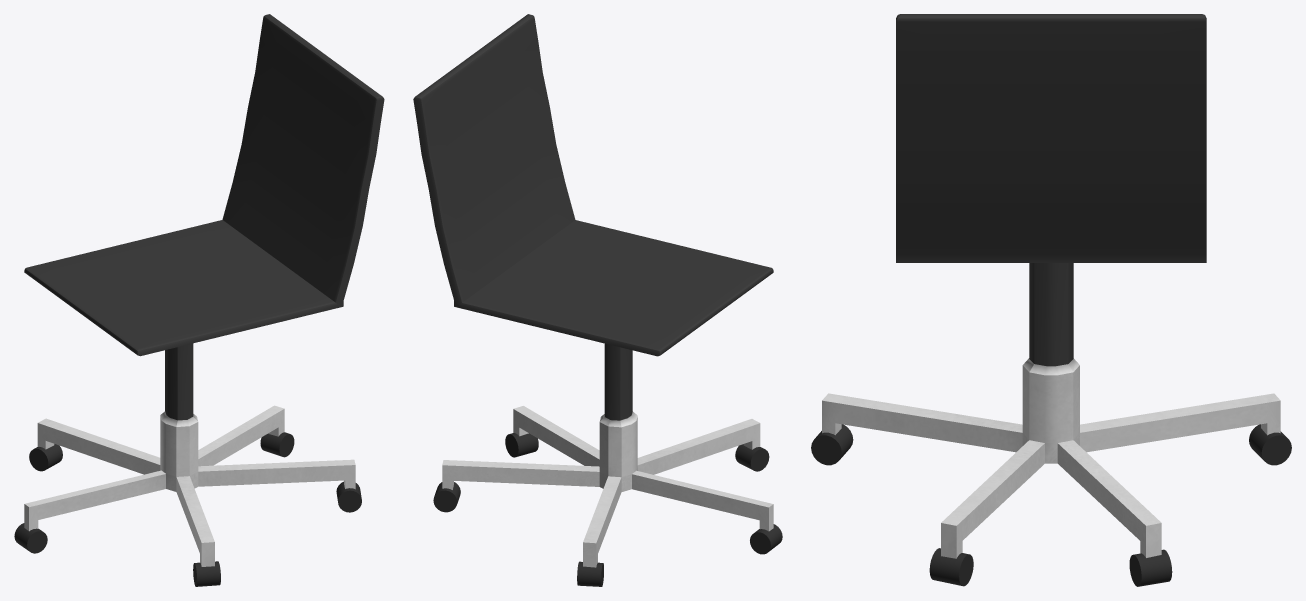
The model's file is Desk_Chair.fbx.
3 views of the same model, side by side, from view 1: azimuth 30°, elevation 25°; view 2: azimuth 150°, elevation 25°; view 3: azimuth 270°, elevation 25° (orthographic). The views are drawn at different scales.
Parts seen in each view (by area): view 1: polySurface392; view 2: polySurface392; view 3: polySurface392.
Boxes of the visible parts, x1,y1,x2,y2 form: polySurface392: (14, 14, 384, 586); polySurface392: (413, 14, 782, 586); polySurface392: (811, 14, 1291, 586).
Bounding box in the file's own units: 0.6723 × 0.8846 × 0.6714.
